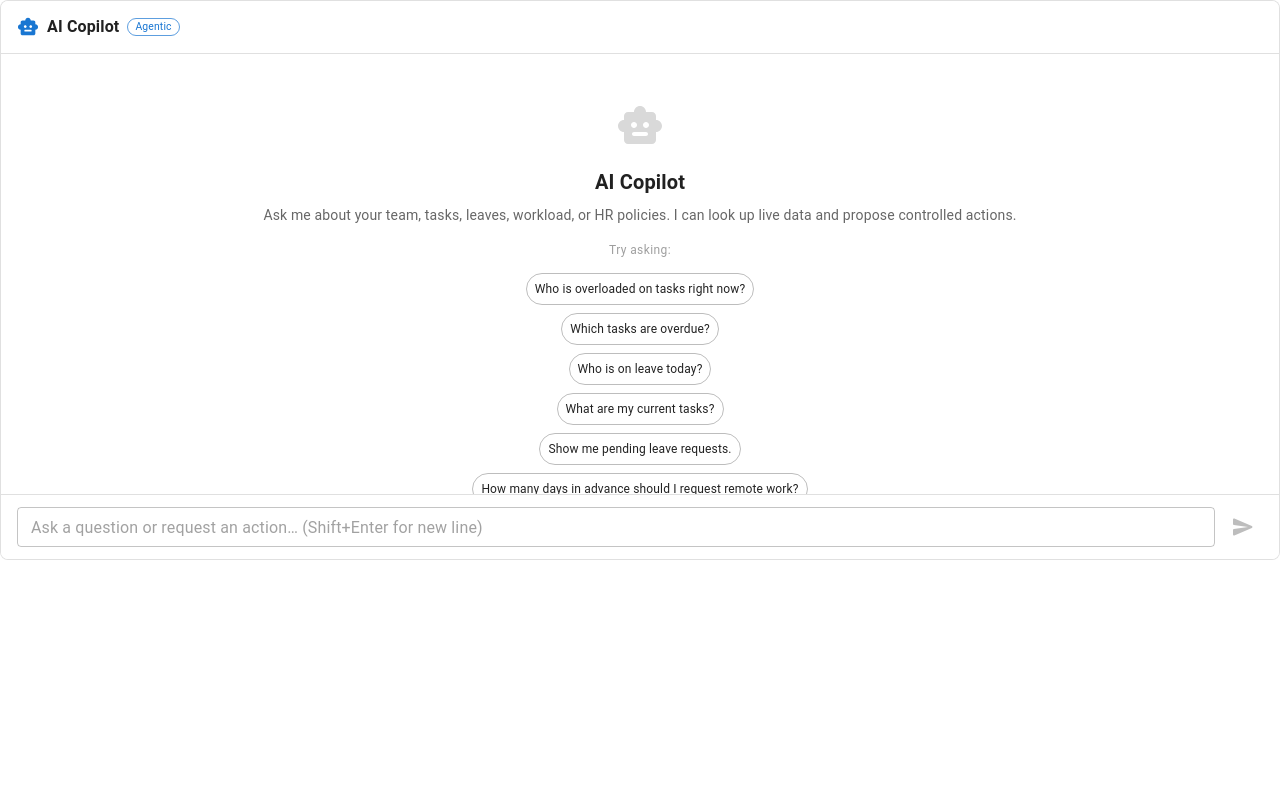
Scenario: AiCopilotChat — Phase 7E › shows ACTION_PROPOSAL confirmation card
The width and height of the screenshot is (1280, 800).
Step 1. Replace the text in the text box with "Reassign task Fix bug to Rahul" → [616, 527], box [31,516,1201,538]
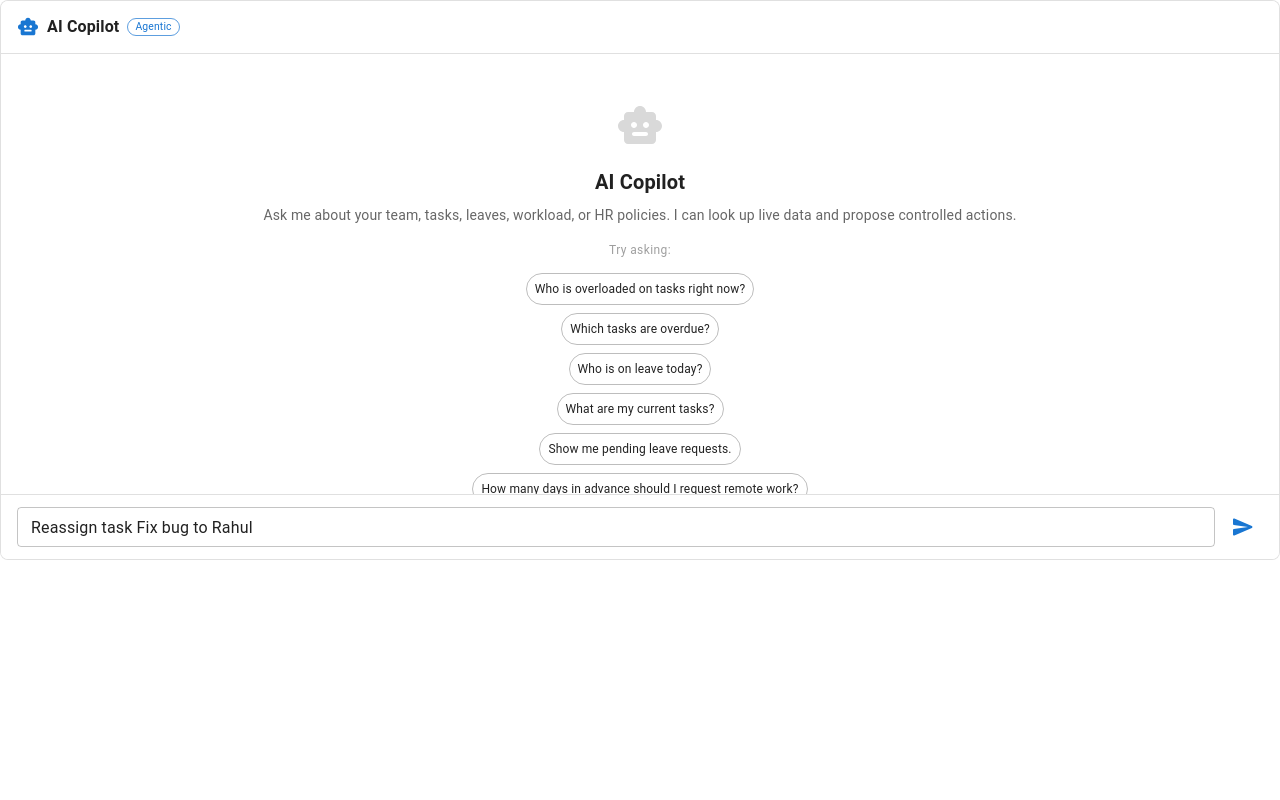
Step 2. Press Enter in the text box, box [31,516,1201,538]
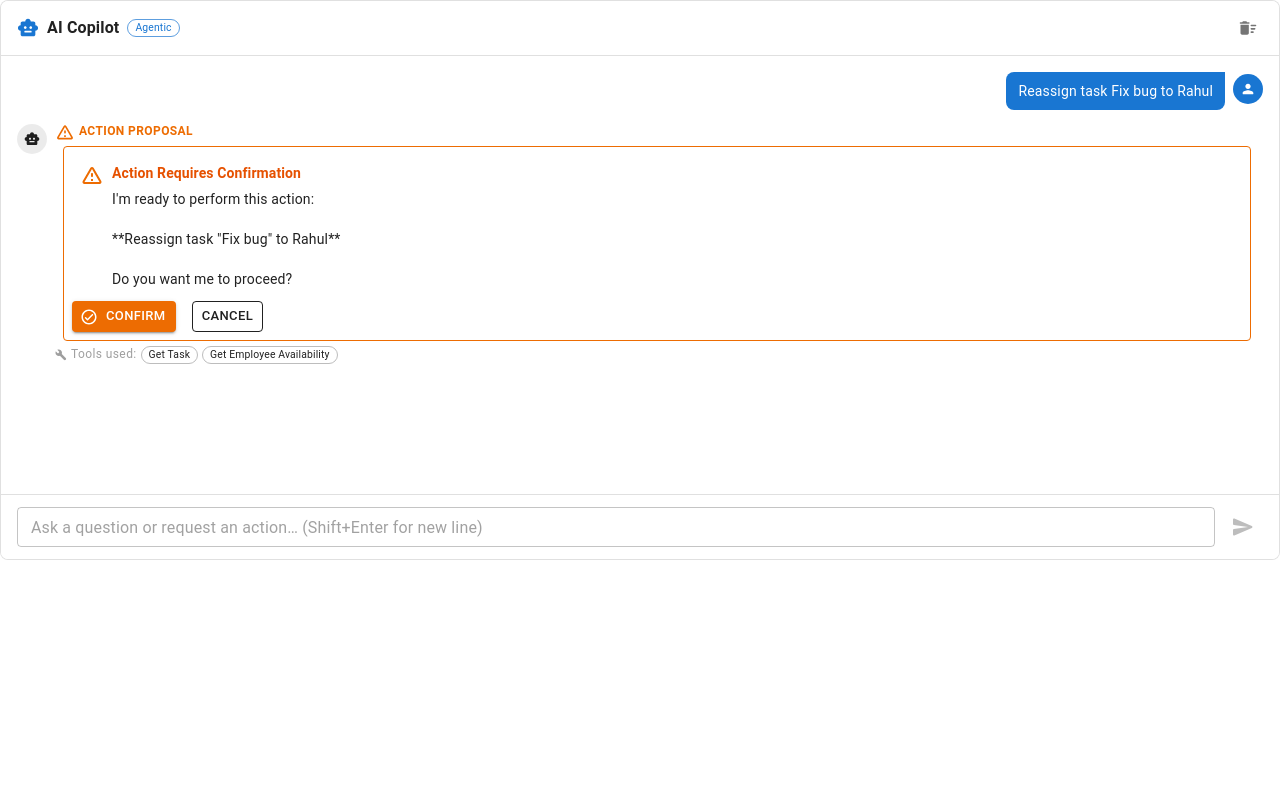
Result: the heading "Action Requires Confirmation" is shown at [112,165,301,181]
Result: the button "Confirm" is shown at [72,301,176,332]
Result: the button "Cancel" is shown at [192,301,263,332]
